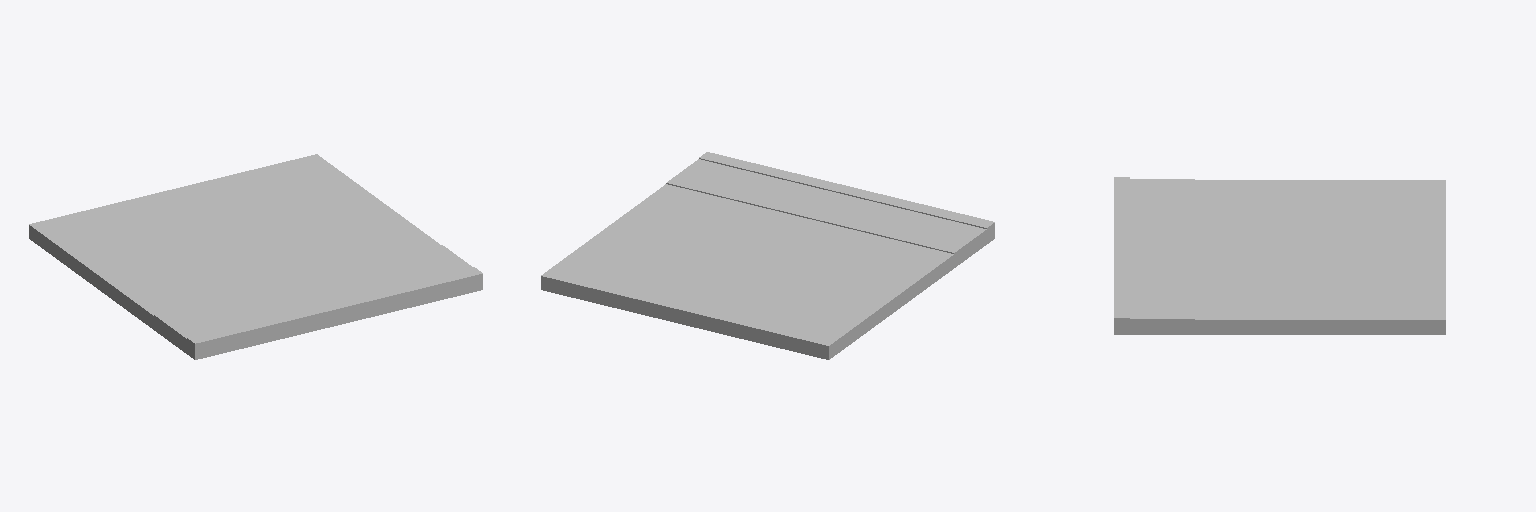
The model's file is lvl1-3.obj.
The picture shows the model from 3 angles: view 1: azimuth 30°, elevation 25°; view 2: azimuth 150°, elevation 25°; view 3: azimuth 270°, elevation 25°; orthographic projection.
Visible parts, largest first — view 1: object 1; view 2: object 1; view 3: object 1.
Part boxes in pixels (x1,y1,x2,y2): object 1: (29, 154, 482, 359); object 1: (541, 152, 994, 359); object 1: (1114, 177, 1445, 334).
Bounding box in the file's own units: 25.6 × 1.4 × 25.6.